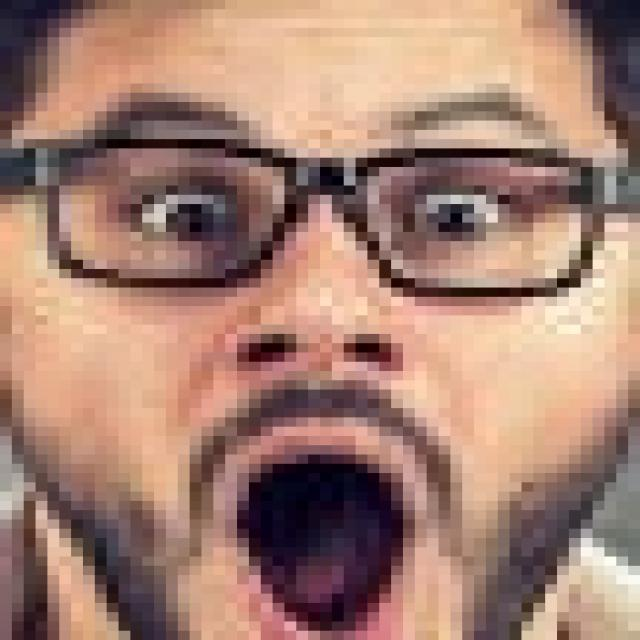Anxiety: (6, 2, 628, 631)
